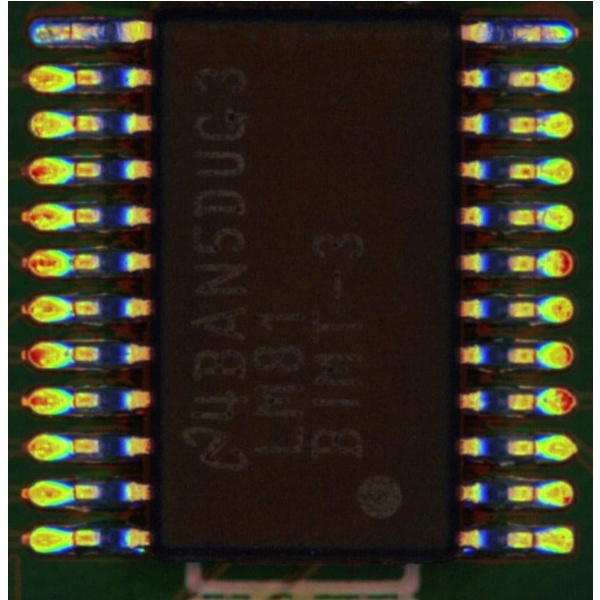Bad_podu: (531, 26, 550, 39), (60, 24, 78, 37)
